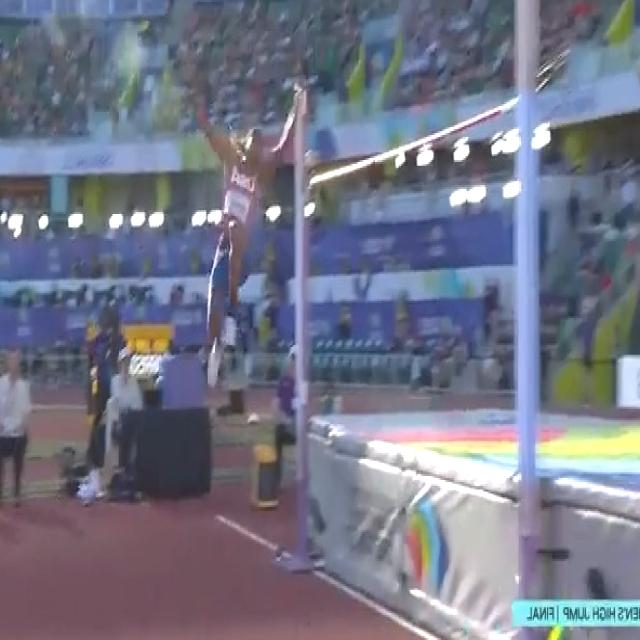land: (199, 94, 302, 383)
